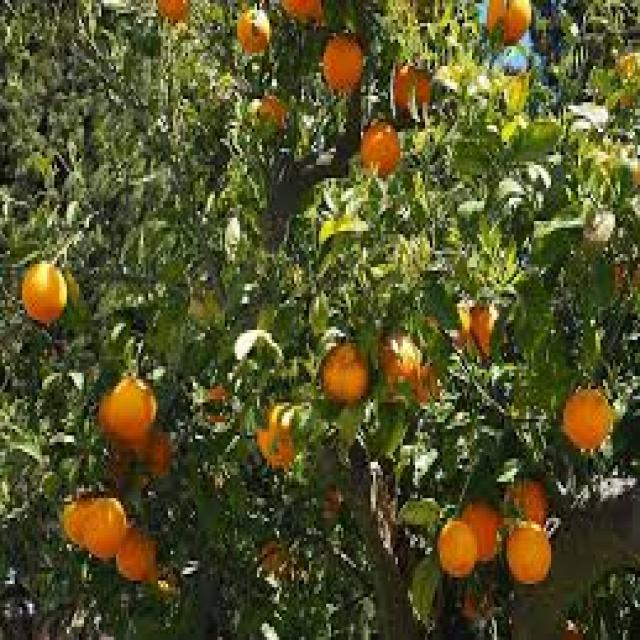orange: (99, 376, 157, 441), (19, 260, 67, 321), (322, 343, 369, 403), (565, 387, 611, 448), (508, 521, 552, 584), (83, 494, 125, 554), (323, 36, 364, 93), (436, 523, 477, 574), (360, 122, 400, 172), (488, 0, 532, 41), (118, 530, 152, 579), (237, 3, 269, 52)
